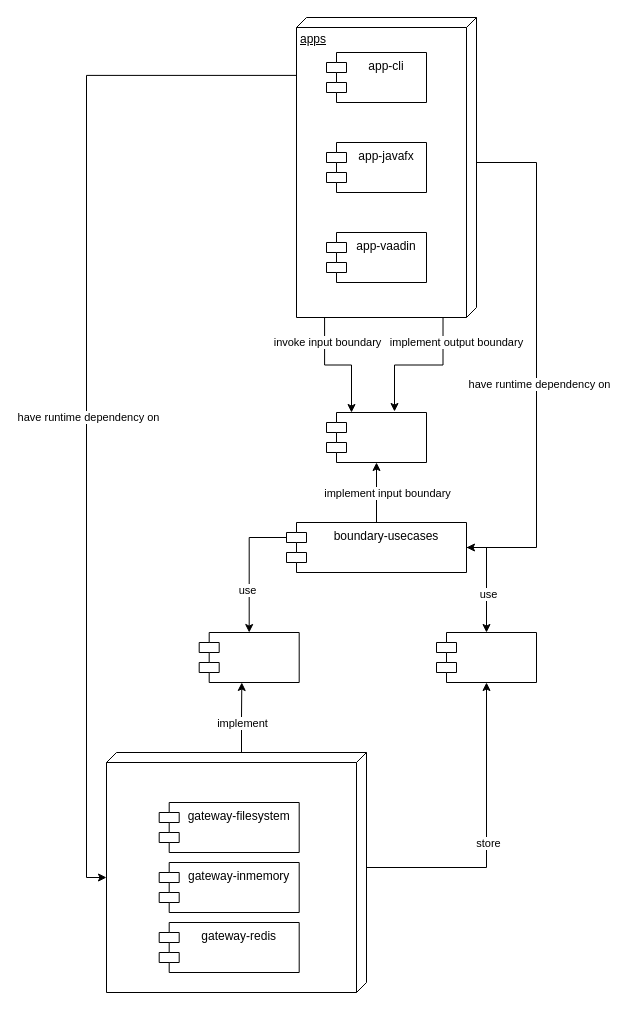
Some shapes in this 627 by 1010 pixel diagram are drawn without their labels. Here are the shapes that lost their labels. From the top down, the box of each, then its label:
(326, 412, 426, 462): boundary
(198, 632, 299, 682): gateway
(436, 632, 536, 682): domain
(106, 752, 366, 992): gateway implementations
